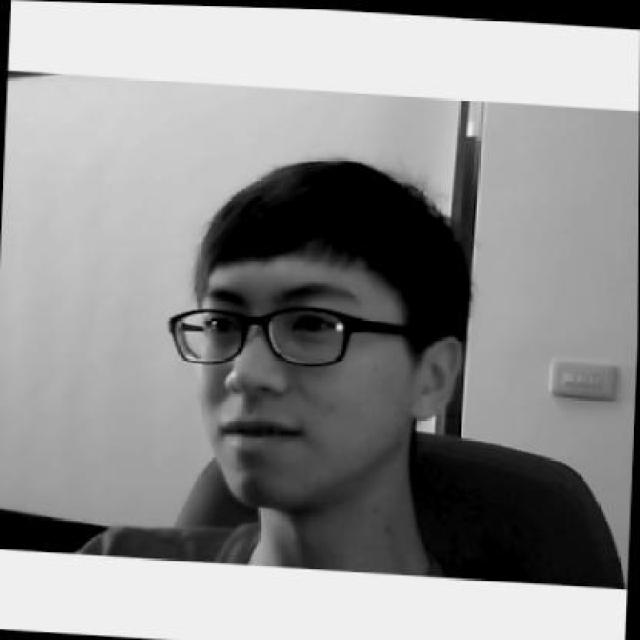attentif: (162, 143, 472, 514)
